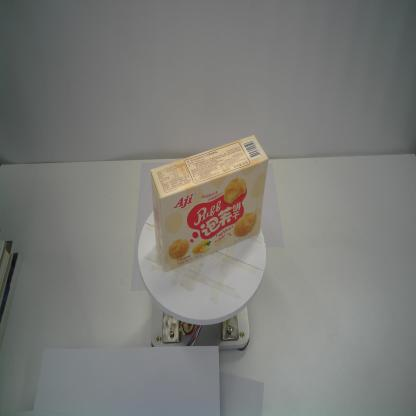Dessert: (150, 134, 268, 272)
